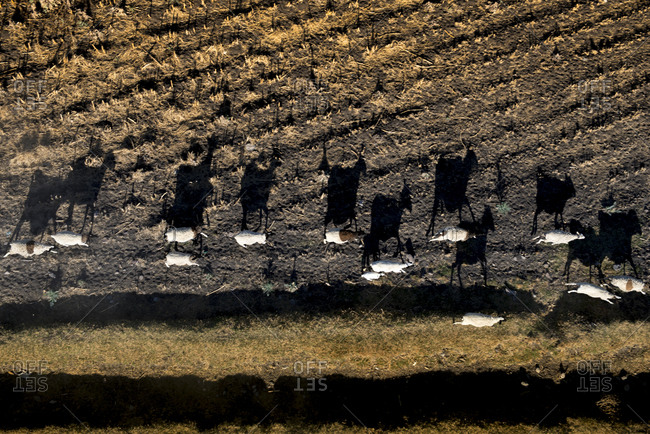sheep: (568, 280, 620, 305), (429, 223, 477, 243), (5, 241, 54, 260), (532, 229, 585, 246), (454, 309, 504, 326), (368, 254, 408, 274), (610, 276, 650, 296), (165, 224, 207, 242), (48, 232, 89, 249), (163, 249, 198, 268), (232, 229, 266, 247), (324, 229, 359, 246), (361, 270, 385, 280)
